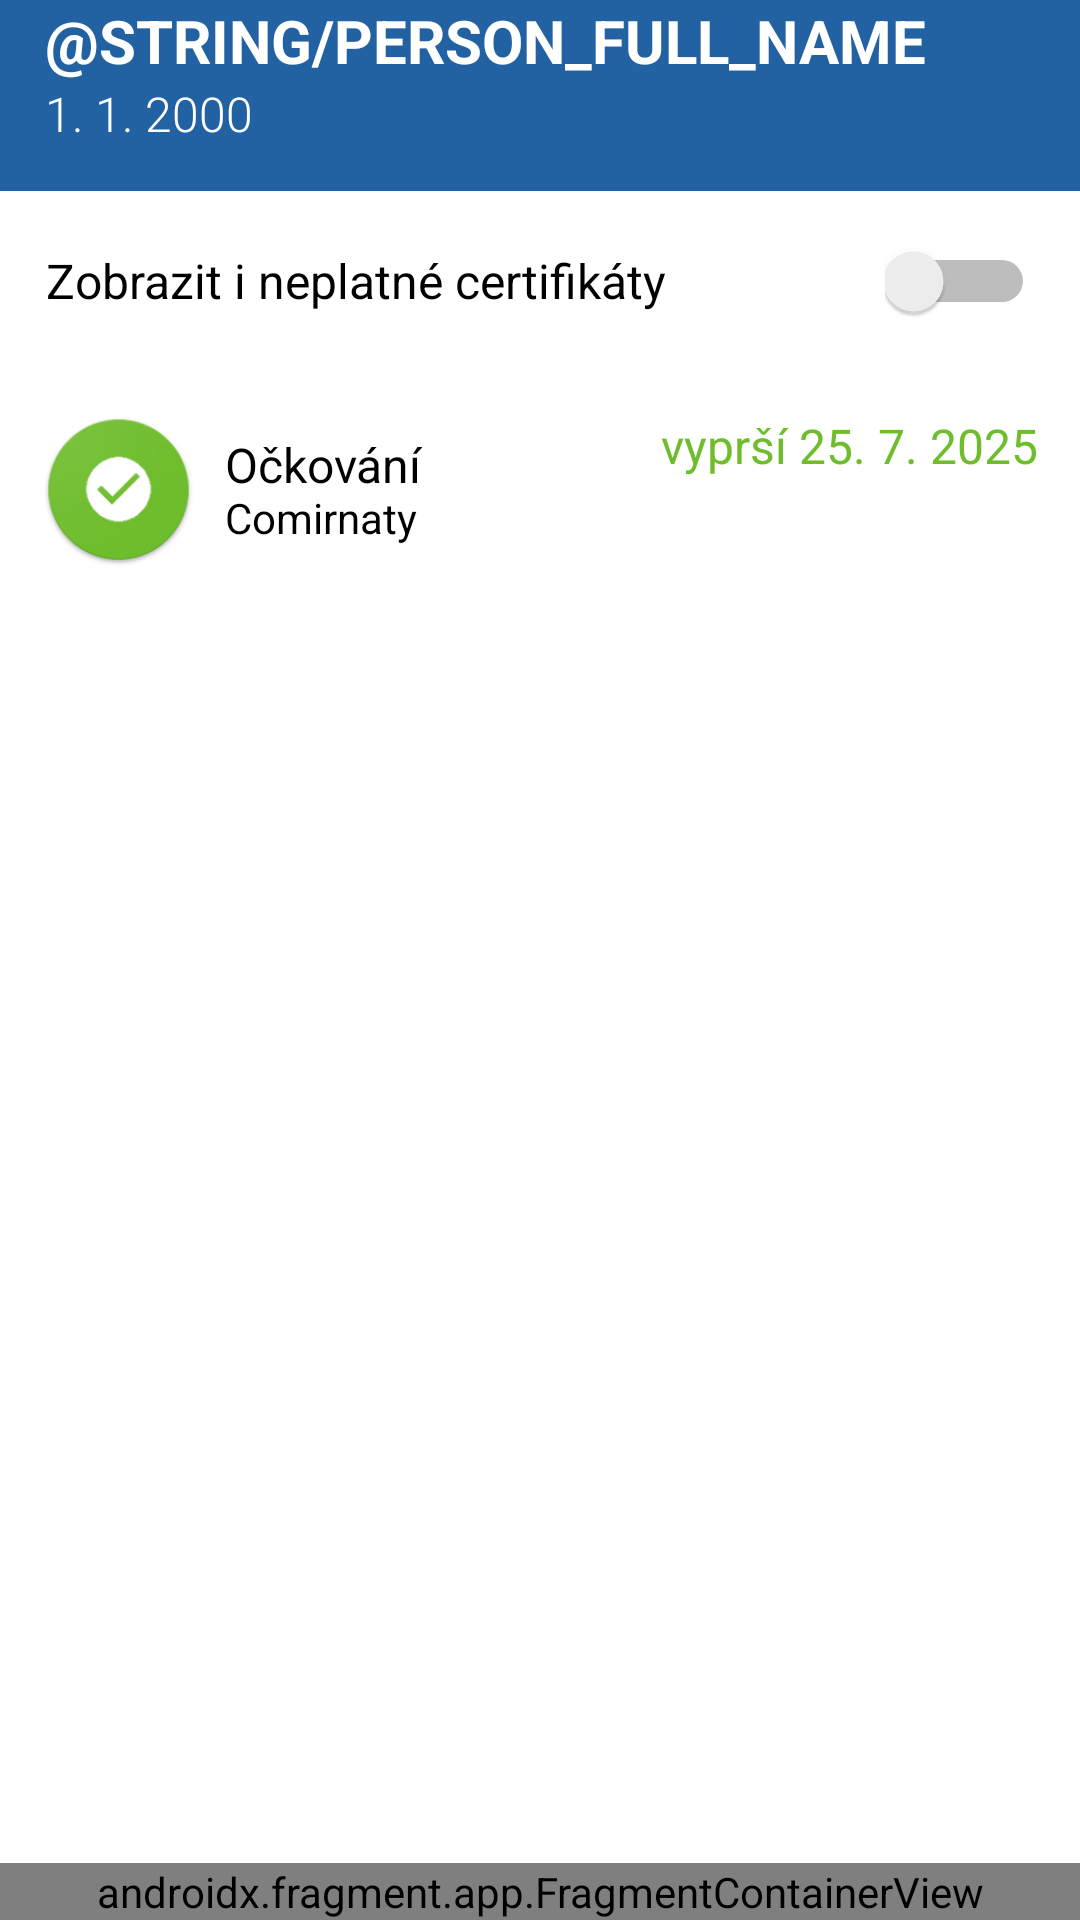

Icon bounding boxes for this 1080x1920 phone screenshot, format (left=x1, top=y1, right=x2, bottom=y2):
ok cust: (left=47, top=419, right=190, bottom=563)
